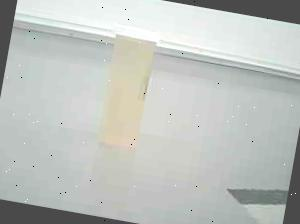Bottle A: (82, 13, 176, 178)
